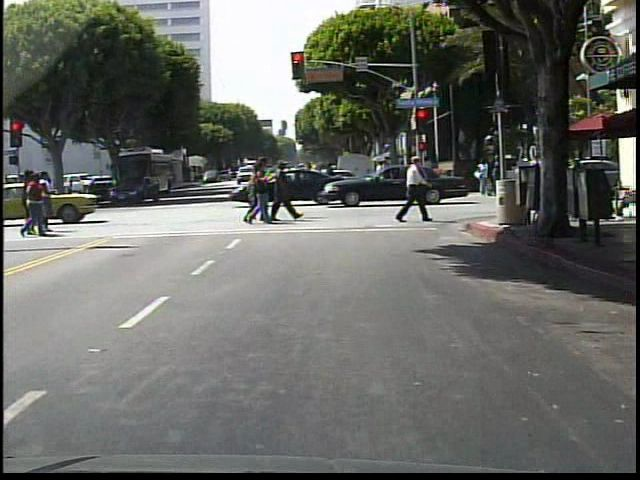person: (391, 146, 434, 230)
